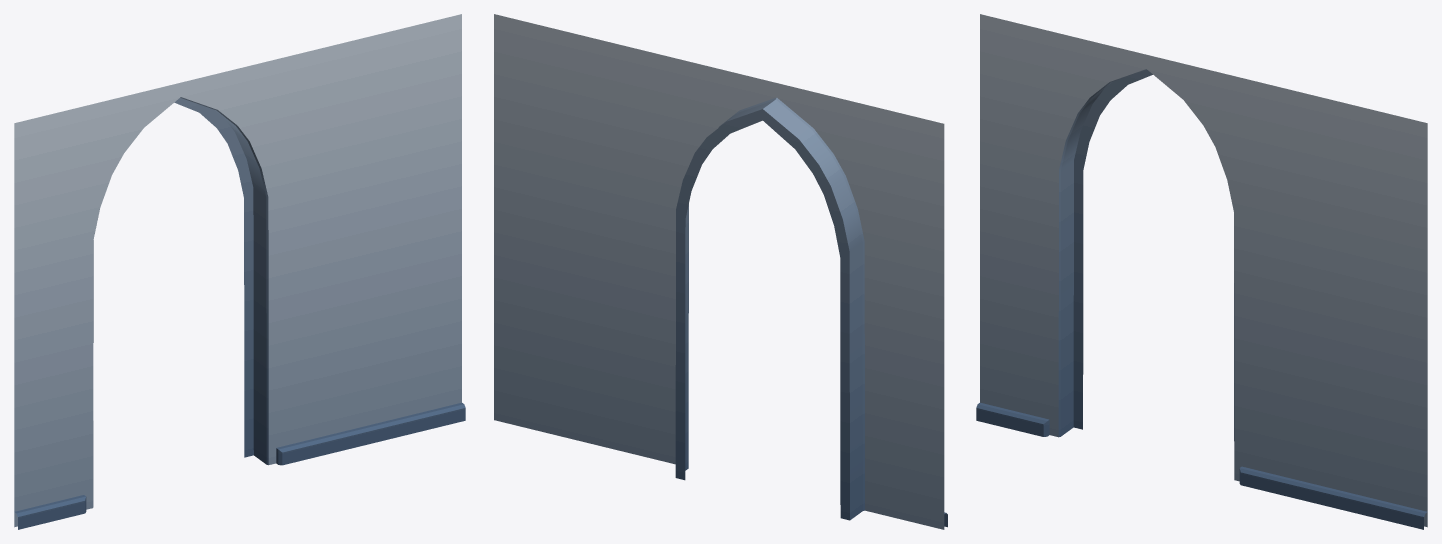
Rendered from WallDoor.fbx.
The picture shows the model from 3 angles, left to right: view 1: azimuth 30°, elevation 25°; view 2: azimuth 150°, elevation 25°; view 3: azimuth 330°, elevation 25°; orthographic projection.
Visible parts, largest first — view 1: WallDoorway_GEO_Adjusted; view 2: WallDoorway_GEO_Adjusted; view 3: WallDoorway_GEO_Adjusted.
Boxes of the visible parts, x1,y1,x2,y2 form: WallDoorway_GEO_Adjusted: (14,14,465,529); WallDoorway_GEO_Adjusted: (494,14,947,529); WallDoorway_GEO_Adjusted: (976,14,1427,529).
Size of the model in its own units: 290 by 250 by 19.55.
